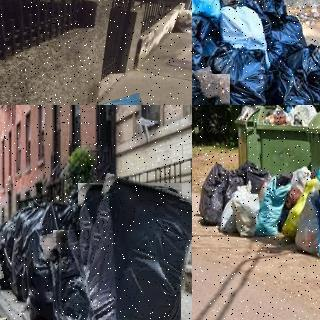Garbage: (65, 178, 192, 320), (12, 203, 58, 320), (46, 229, 95, 320), (206, 41, 269, 105), (217, 2, 275, 56), (266, 55, 318, 105), (263, 8, 308, 61), (287, 47, 320, 105), (256, 178, 288, 237), (199, 162, 231, 221), (230, 182, 261, 236), (298, 188, 320, 252), (192, 25, 209, 90), (0, 219, 15, 291), (192, 0, 226, 20)
